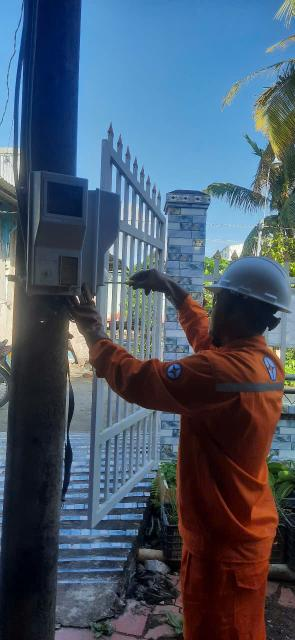gloves: (51, 271, 128, 349), (114, 251, 204, 312)
helmet: (207, 233, 295, 333)
